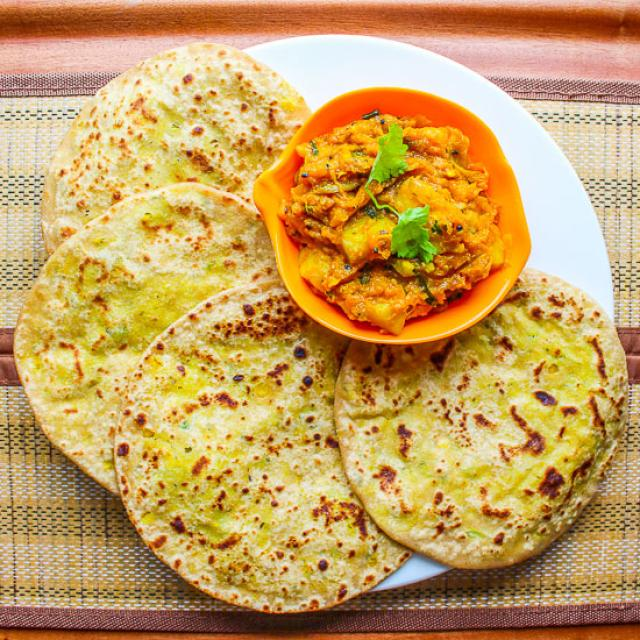CHAPATHI: (12, 38, 629, 614)
